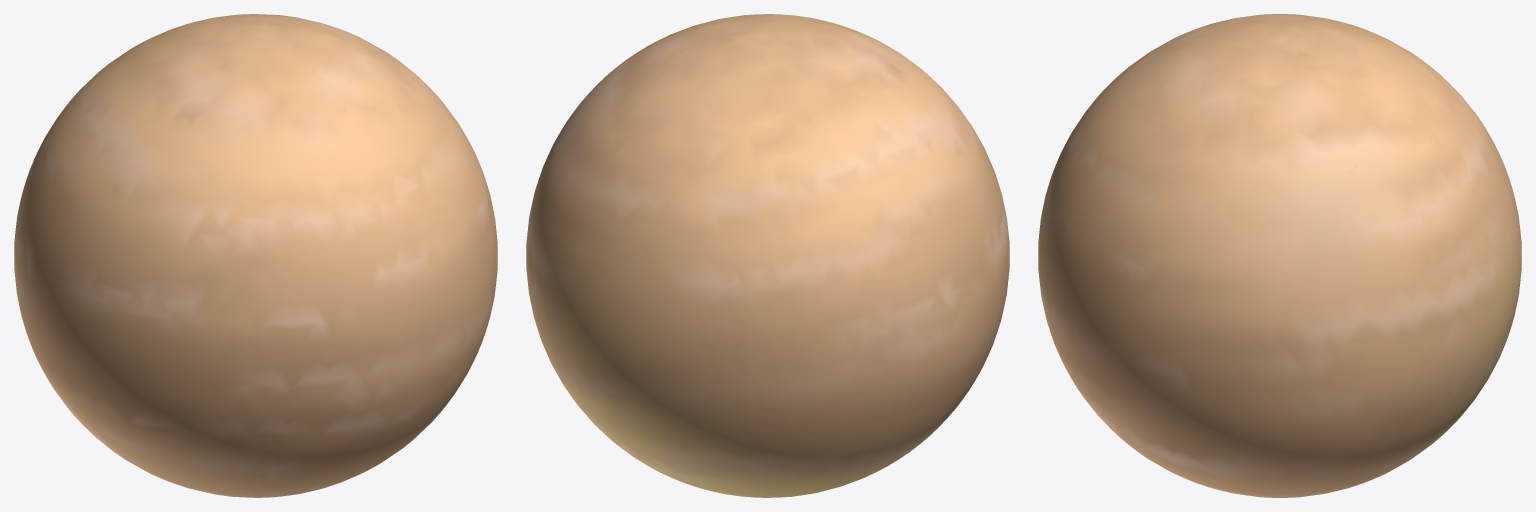
The model's file is planet_titan.fbx.
3 views of the same model, side by side, from view 1: azimuth 30°, elevation 25°; view 2: azimuth 150°, elevation 25°; view 3: azimuth 270°, elevation 25° (orthographic).
Parts seen in each view (by area): view 1: planet_titan; view 2: planet_titan; view 3: planet_titan.
Part boxes in pixels (<box>): planet_titan: <box>14,14,497,497</box>; planet_titan: <box>526,14,1009,497</box>; planet_titan: <box>1038,14,1521,497</box>.
Size of the model in its own units: 184 by 184 by 184.
